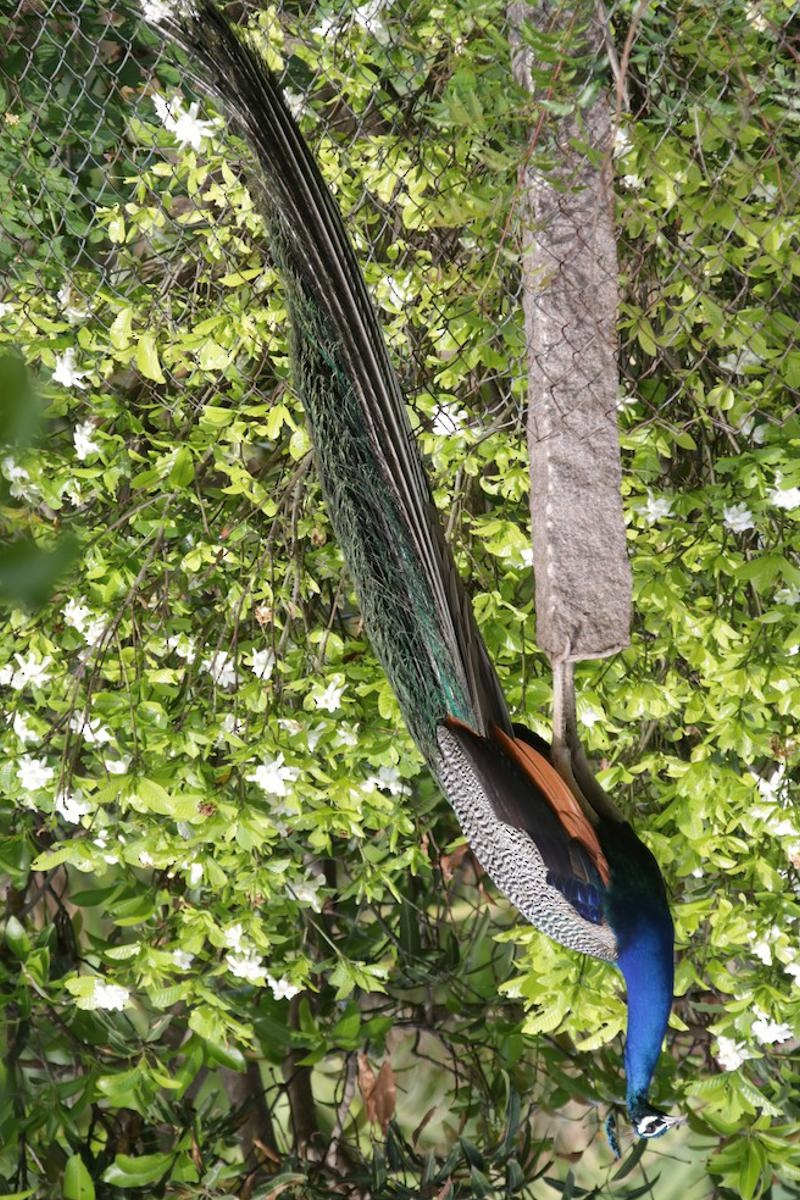peacock: (217, 211, 730, 1140)
